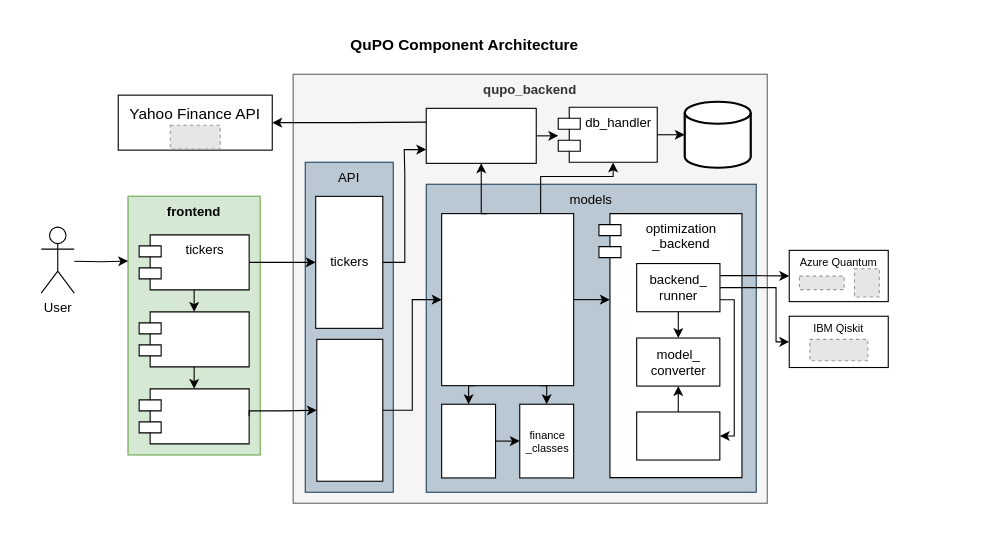
Image size: 1005x543. Some labels were removed from this diagram. Grey dashed boxes stand in for pictures. The shapes that lost their labels are listed below. From the top down, each one's centre as x and y in pixels, then its label:
(480,135): tickers_utilities
(717,134): db
(507,299): portfolio_model
(193,339): process flow
(193,416): portfolio
(349,409): main
(468,440): finance _utilities
(678,435): optimization _classes
